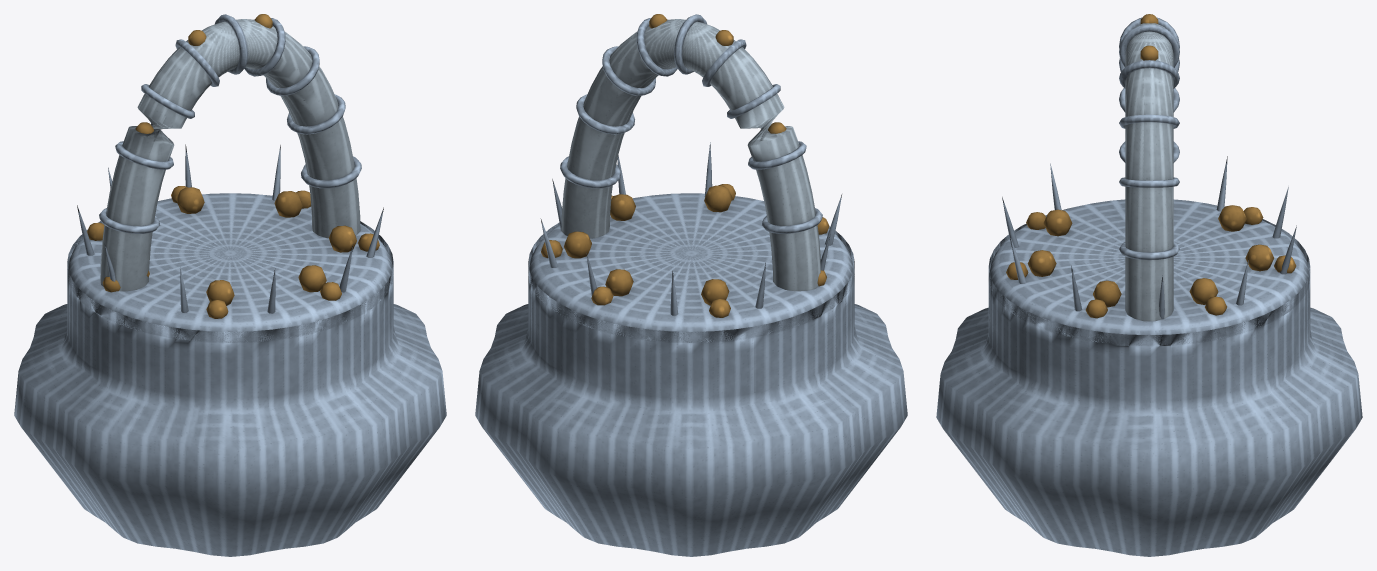
The model's file is landmark_arch.glb.
3 renders of one model, left to right at view 1: azimuth 30°, elevation 25°; view 2: azimuth 150°, elevation 25°; view 3: azimuth 270°, elevation 25°, orthographic.
Visible parts, largest first — view 1: LandmarkArch, Growth_Beads, Growth_Needles; view 2: LandmarkArch, Growth_Beads, Growth_Needles; view 3: LandmarkArch, Growth_Beads, Growth_Needles.
Boxes of the visible parts, bbox=[...] form: LandmarkArch: bbox=[14, 14, 446, 556]; Growth_Beads: bbox=[87, 186, 379, 318]; Growth_Needles: bbox=[77, 144, 383, 313]; LandmarkArch: bbox=[475, 14, 907, 556]; Growth_Beads: bbox=[541, 184, 829, 317]; Growth_Needles: bbox=[540, 142, 841, 315]; LandmarkArch: bbox=[936, 14, 1362, 556]; Growth_Beads: bbox=[1006, 205, 1296, 318]; Growth_Needles: bbox=[1002, 156, 1296, 319].
Bounding box in the file's own units: 5.24 × 6.63 × 5.3.
Materials: 3 (3 with a texture image).
